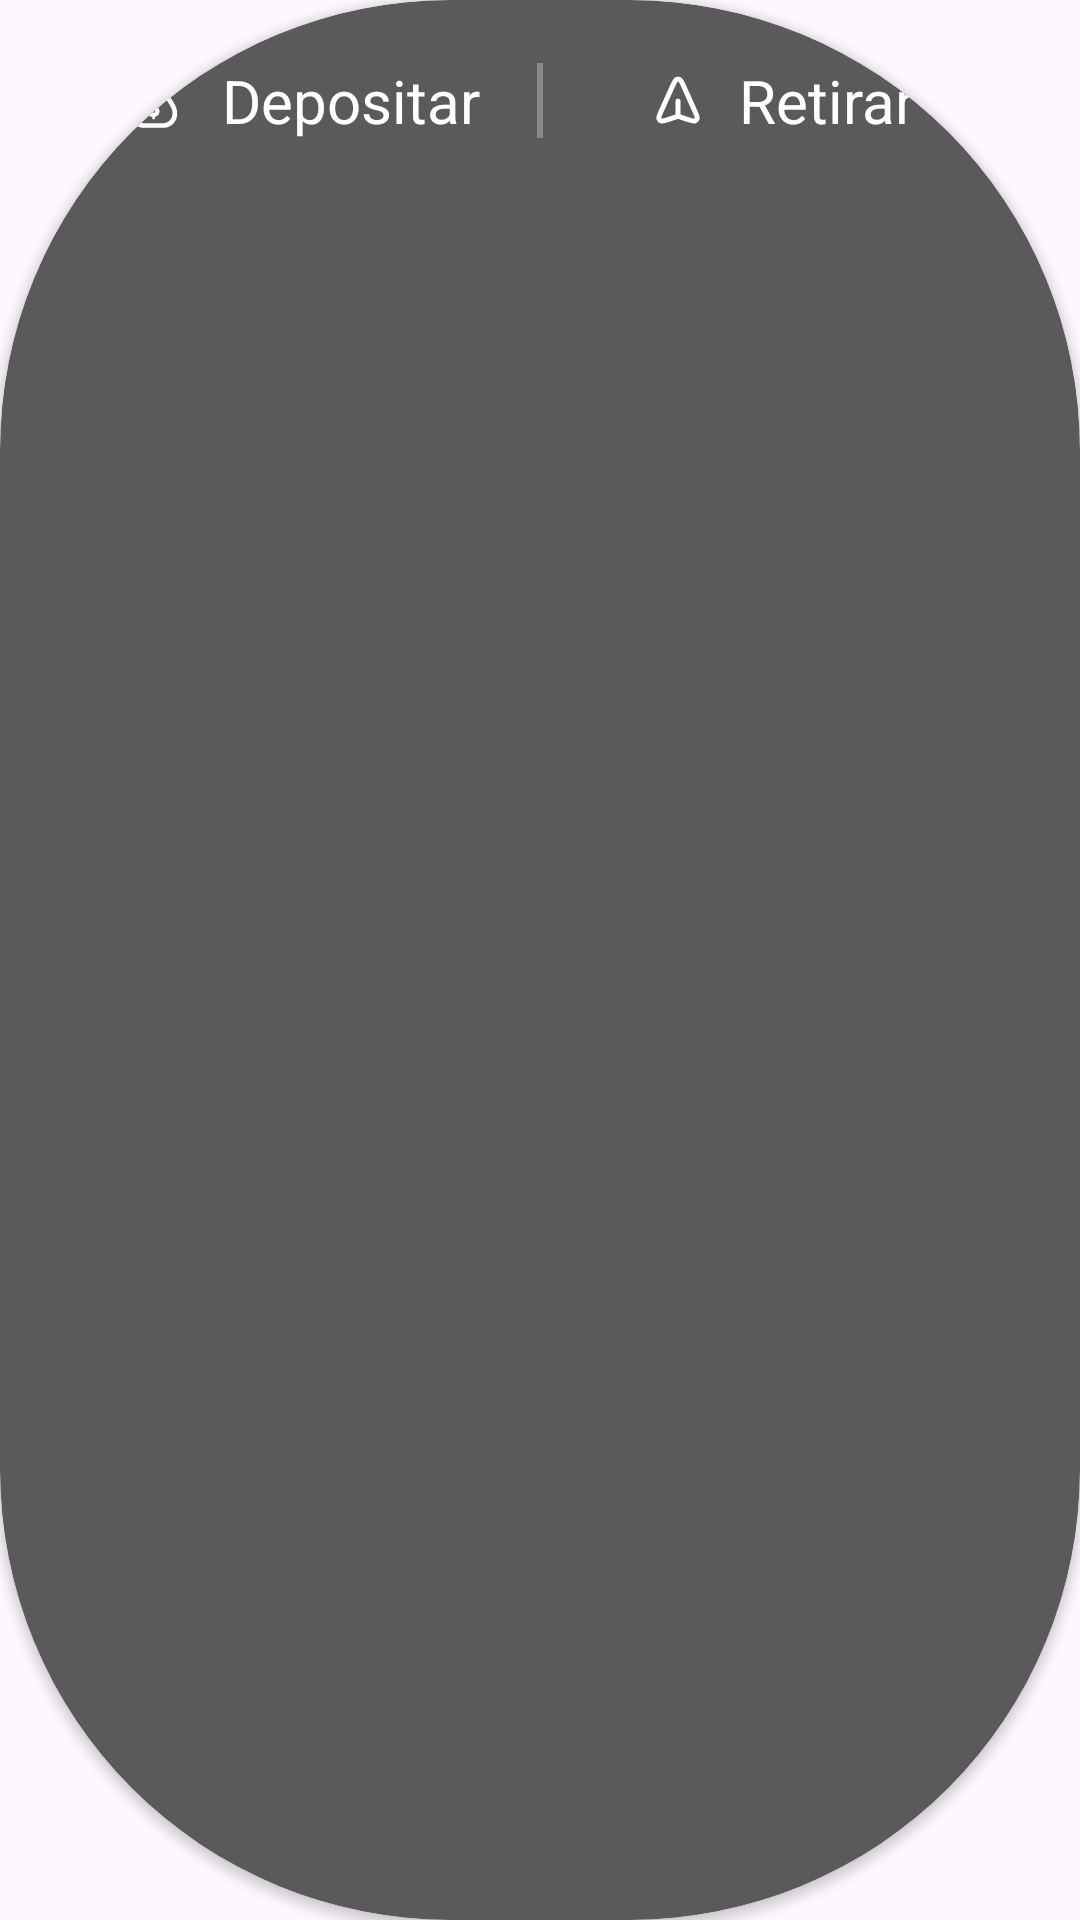

Icon bounding boxes for this 1080px×1920px phone screenshot, format [x1,y1,x2,y2]:
send: [656,76,700,124]
